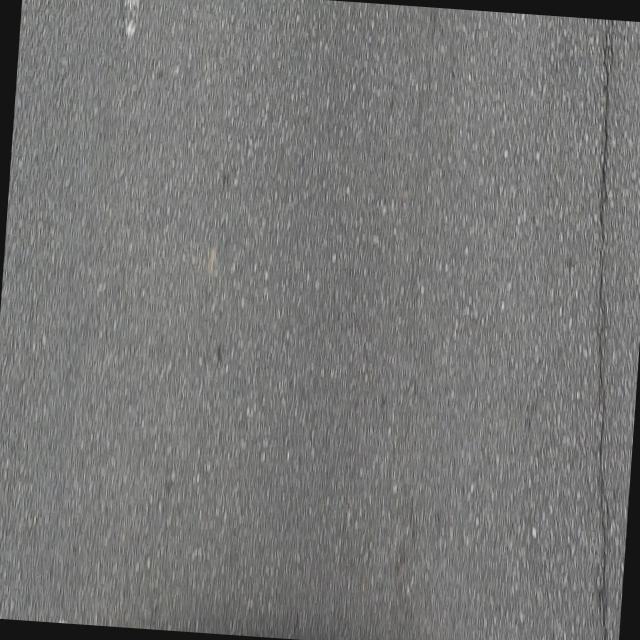Retak-Memanjang: (591, 34, 615, 640)
